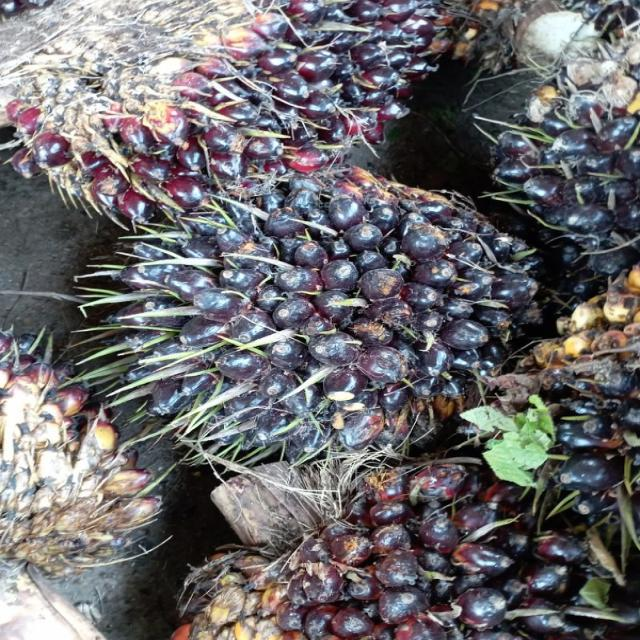fraksi 00: (119, 170, 533, 453), (0, 0, 445, 227)
